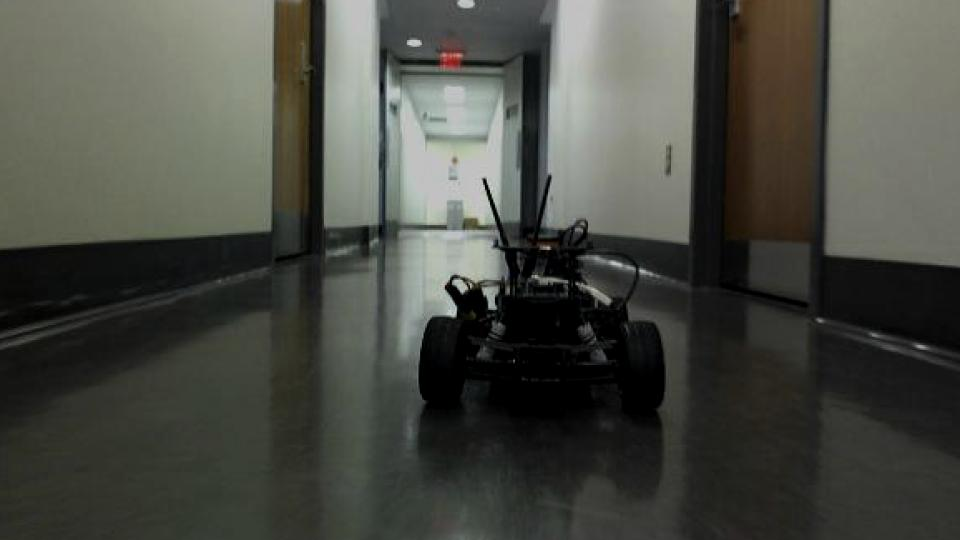car: (415, 171, 670, 416)
